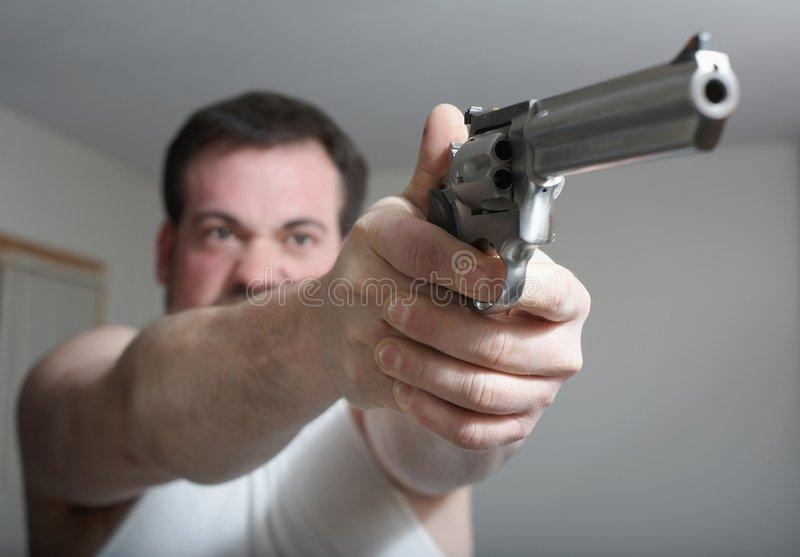criminal: (14, 27, 744, 557)
weapon: (423, 29, 743, 318)
